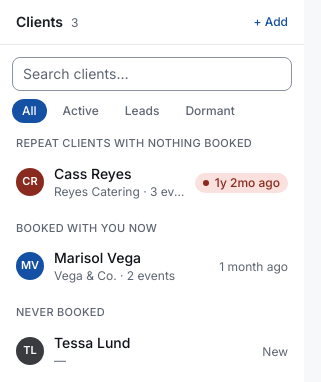
Test: ClientQueueRail › the Leads chip isolates rows that have never won business
Click the button "Leads".
click(142, 111)  # box [115, 99, 169, 123]
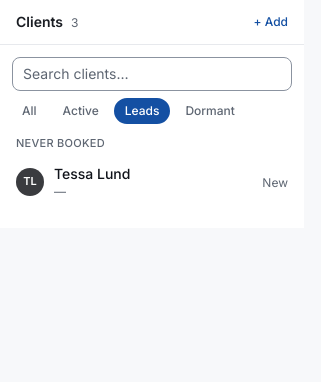
Expected: the text "Tessa Lund" is shown, [54, 164, 130, 182]
Now the link "Marisol Vega" is gone
Now the link "Cass Reyes" is gone
